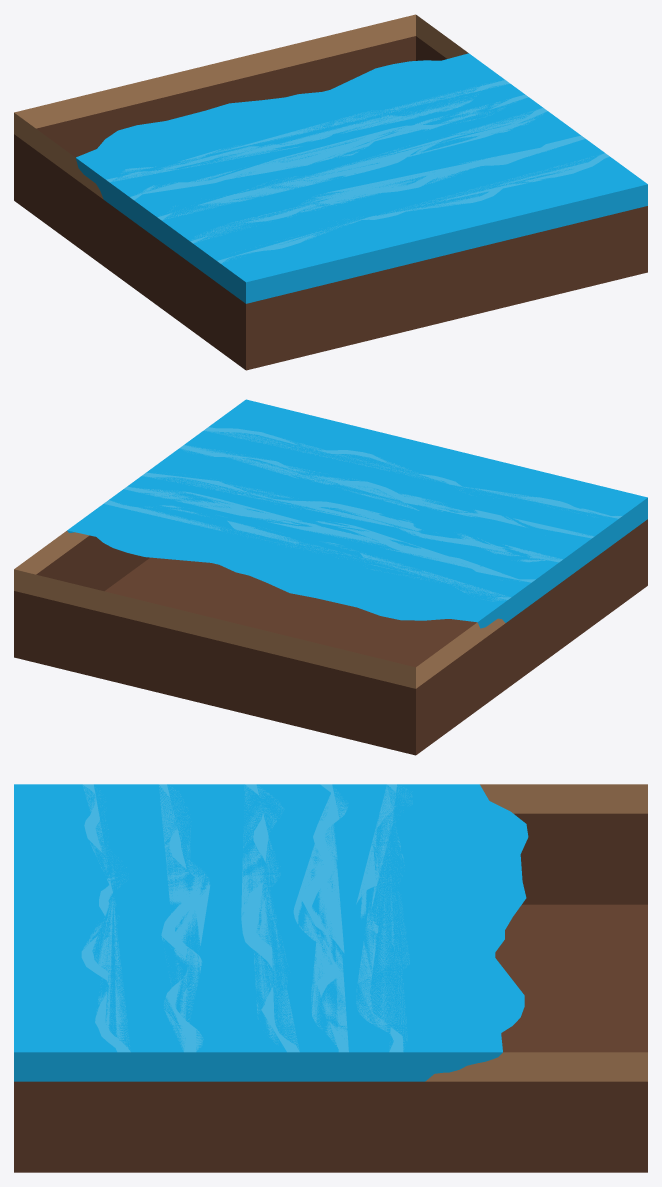
The picture shows the model from 3 angles, top to bottom: view 1: azimuth 30°, elevation 25°; view 2: azimuth 150°, elevation 25°; view 3: azimuth 270°, elevation 25°; orthographic projection. The views are drawn at different scales.
Parts seen in each view (by area): view 1: Cube.070; view 2: Cube.070; view 3: Cube.070.
Part boxes in pixels (left/top/right/bottom): Cube.070: left=14, top=14, right=647, bottom=370; Cube.070: left=14, top=399, right=647, bottom=755; Cube.070: left=14, top=784, right=647, bottom=1172.
Bounding box in the file's own units: 149 × 31.28 × 149.
1 material, 1 textured.
